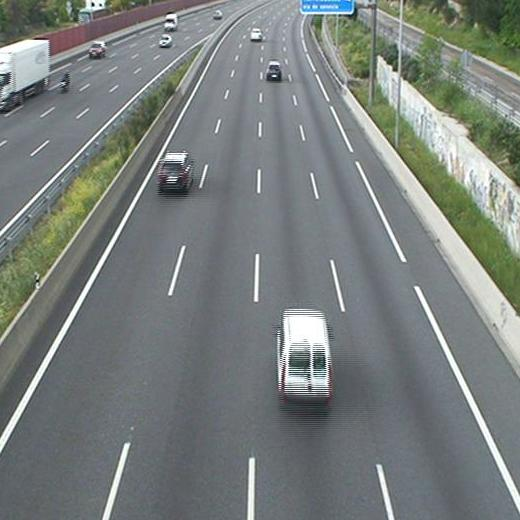car: (278, 309, 335, 413), (156, 152, 193, 195), (266, 61, 282, 81), (250, 28, 262, 40)
